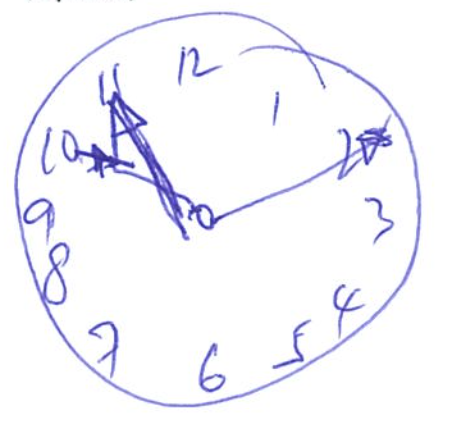1: (268, 89, 283, 126)
10: (39, 126, 78, 176)
11: (96, 60, 125, 107)
12: (175, 44, 224, 86)
2: (337, 125, 366, 179)
3: (361, 194, 396, 244)
4: (332, 281, 366, 340)
5: (273, 316, 311, 366)
6: (199, 342, 227, 394)
7: (88, 321, 121, 380)
8: (43, 241, 71, 306)
9: (22, 197, 54, 243)
contour: (9, 8, 425, 409)
